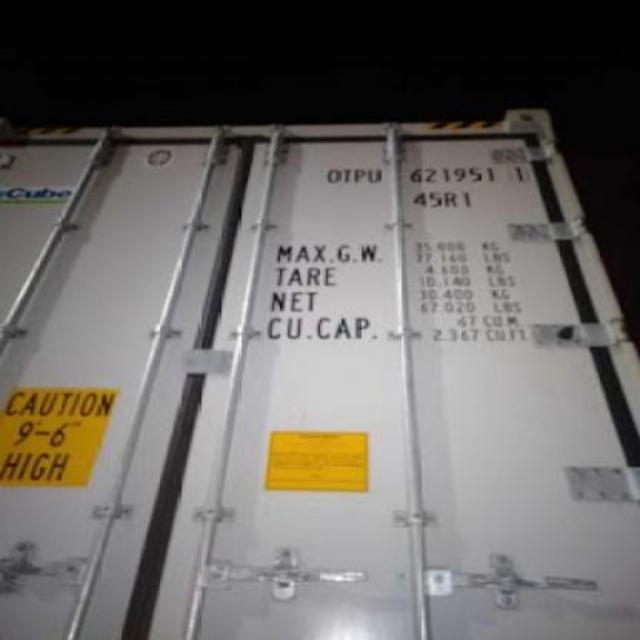1: (508, 160, 530, 183), (484, 162, 498, 186), (441, 162, 454, 182)
2: (422, 160, 440, 184)
5: (468, 160, 484, 184)
6: (408, 162, 422, 186)
9: (450, 160, 468, 184)
O: (322, 166, 340, 182)
P: (354, 162, 368, 190)
T: (340, 165, 352, 188)
U: (368, 159, 386, 191)
